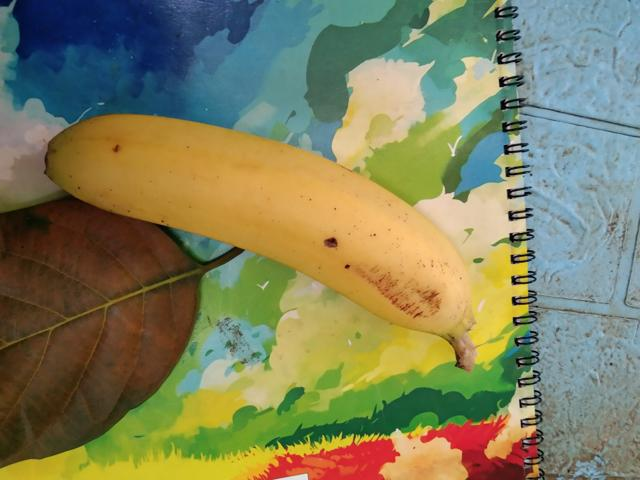freshripe: (37, 100, 468, 347)
